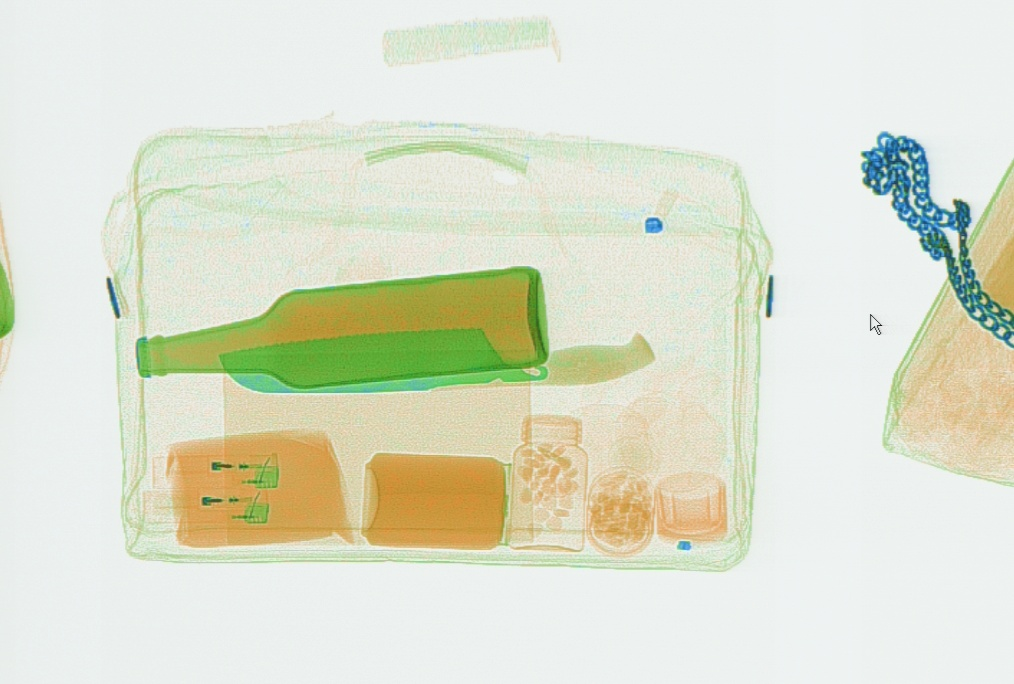knife: (219, 326, 655, 394)
lighter: (152, 451, 279, 490), (139, 487, 270, 524)
